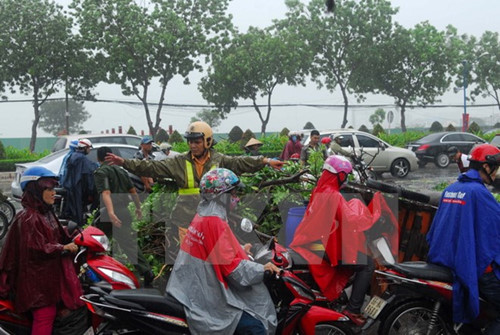police: (143, 122, 267, 224)
